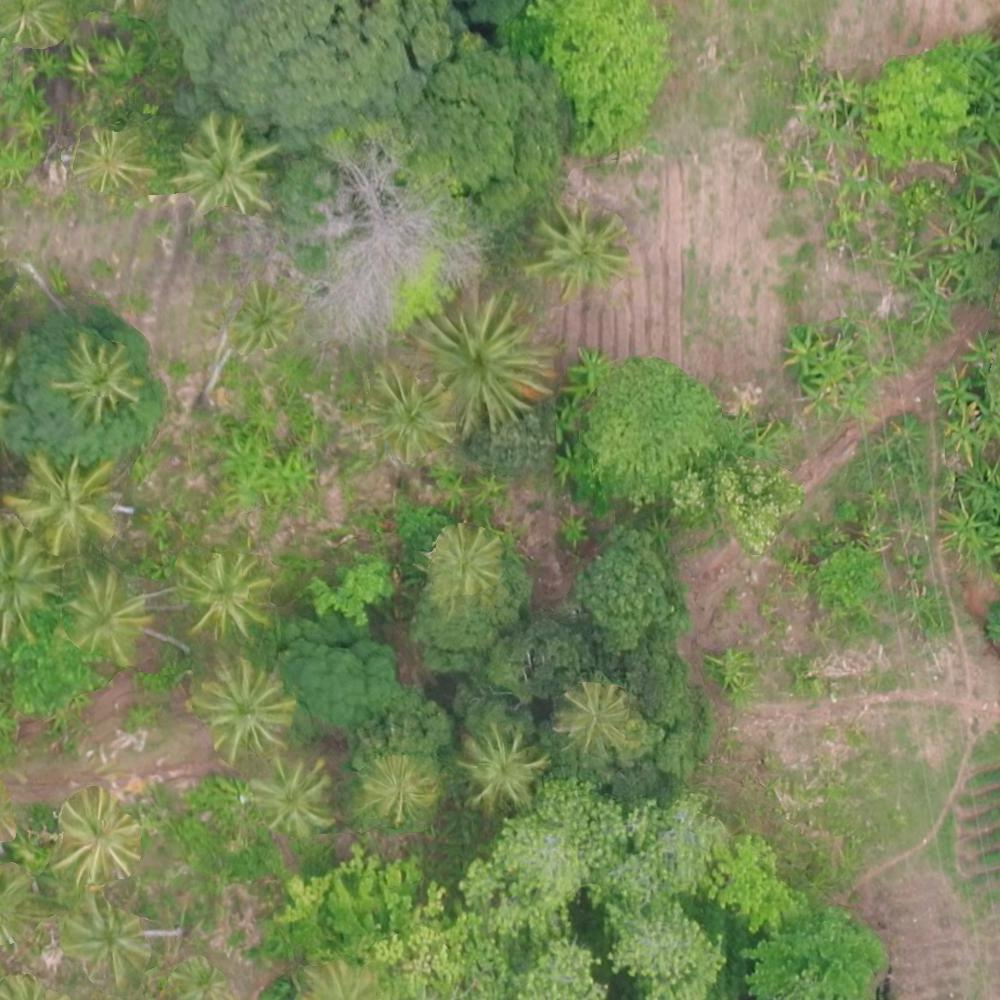Palm: (417, 293, 545, 416), (175, 119, 275, 217), (16, 452, 114, 550), (198, 660, 292, 752), (174, 549, 266, 636), (532, 204, 620, 293), (365, 371, 454, 457), (64, 574, 146, 662), (65, 895, 147, 979), (55, 335, 138, 416), (58, 791, 141, 872), (251, 756, 334, 833), (462, 726, 537, 807), (361, 757, 435, 828), (76, 129, 151, 198), (431, 528, 503, 599), (557, 683, 631, 748), (227, 286, 292, 346)
